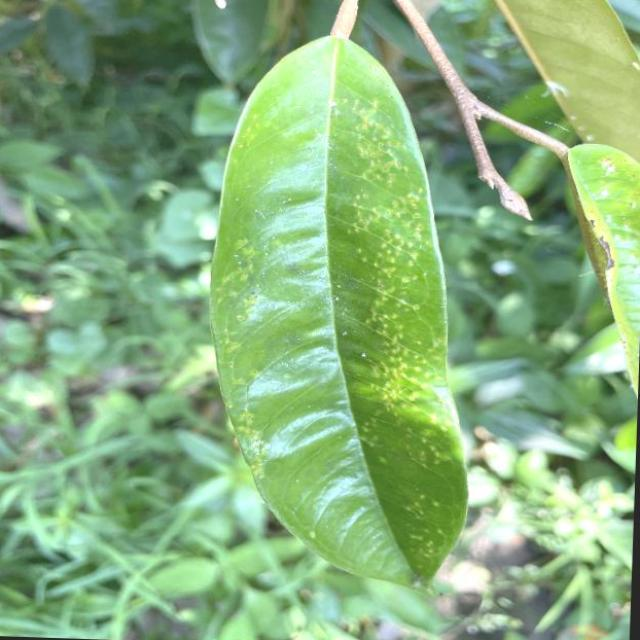Leaf Spot: (190, 22, 496, 610)
